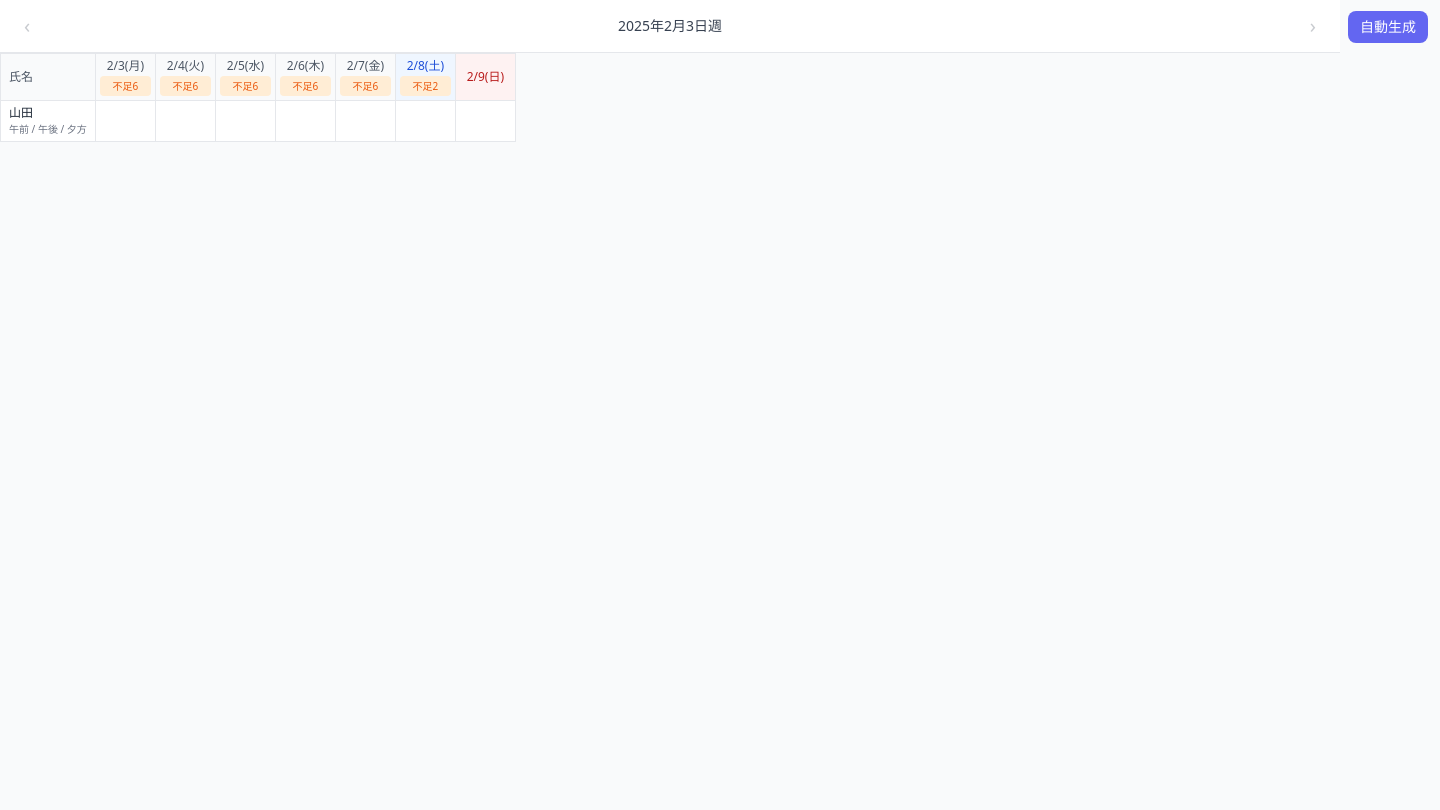
ShiftPage › 自動生成後通知 › 自動生成後にすべて充足の場合はその旨が表示される
Click the button "自動生成" at (1388, 26), box left=1348, top=10, right=1428, bottom=42
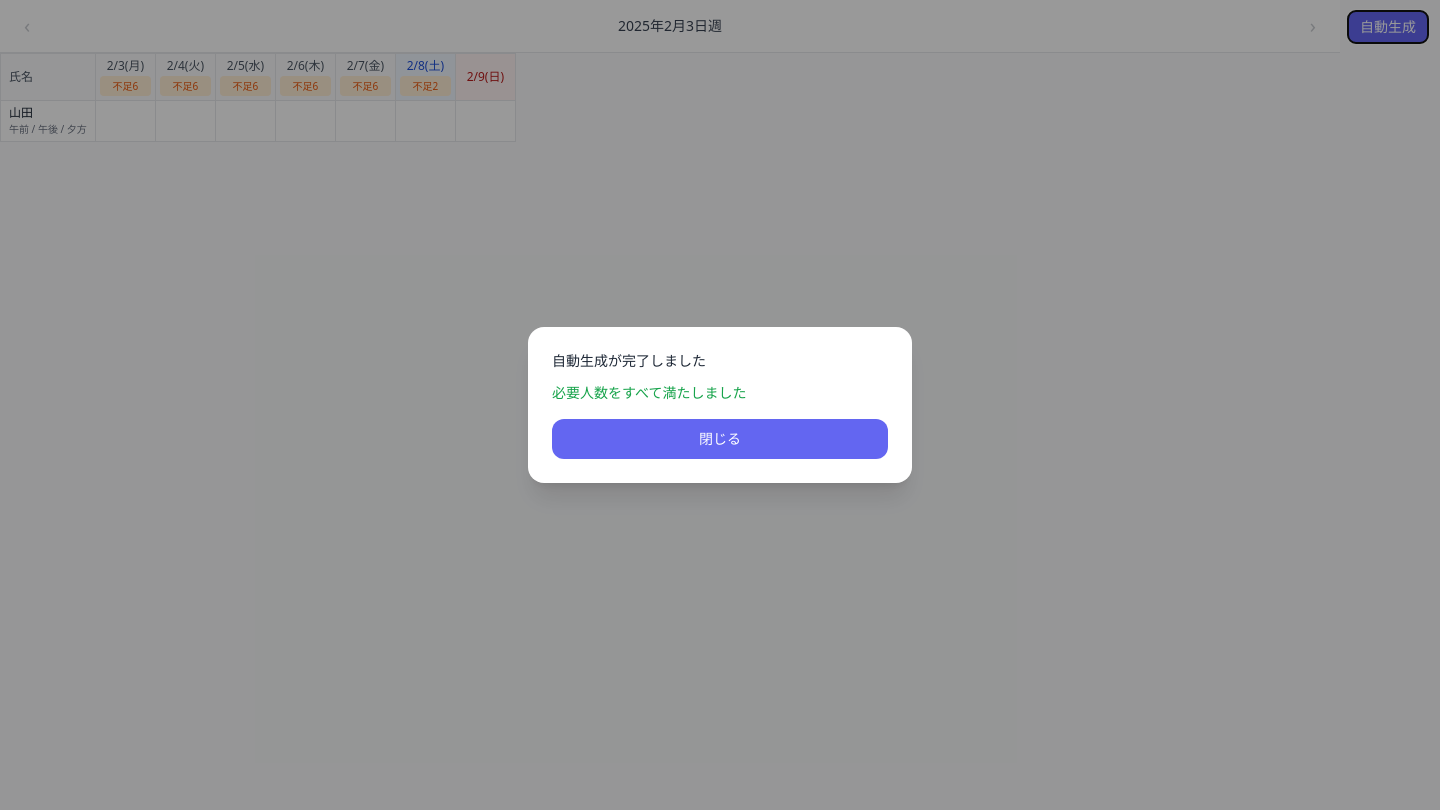
Expected: the dialog is shown
Expected: the text "必要人数をすべて満たしました" is shown, left=552, top=383, right=746, bottom=402
